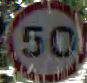Speed limit: (5, 2, 85, 79)
